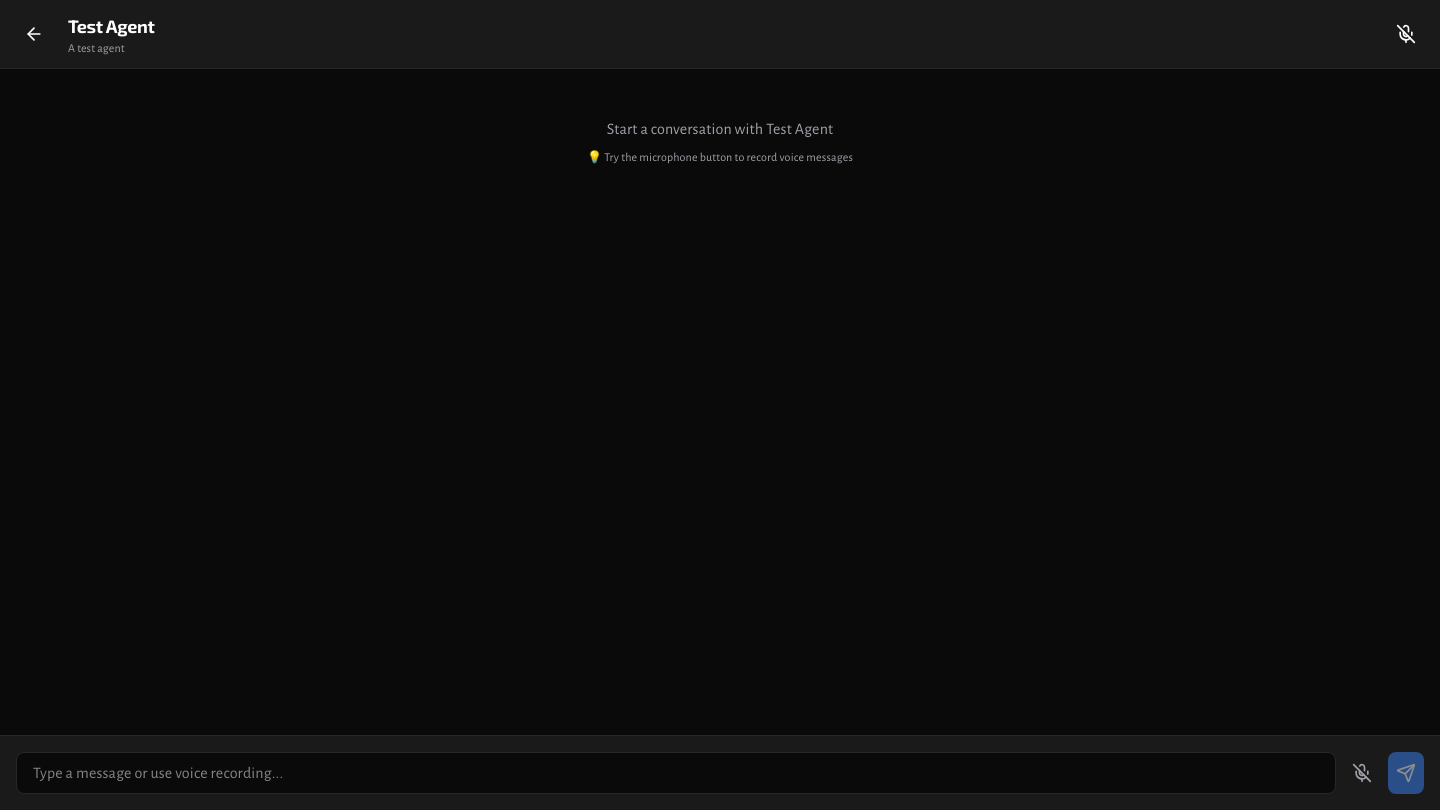
Test: EnhancedChatInterface › formats agent messages with numbered lists
The image size is (1440, 810).
Type "Test message" into the text box with placeholder "Type a message or use voice recording...".
click(676, 773); type("Test message")  # box 16,752 -> 1336,794
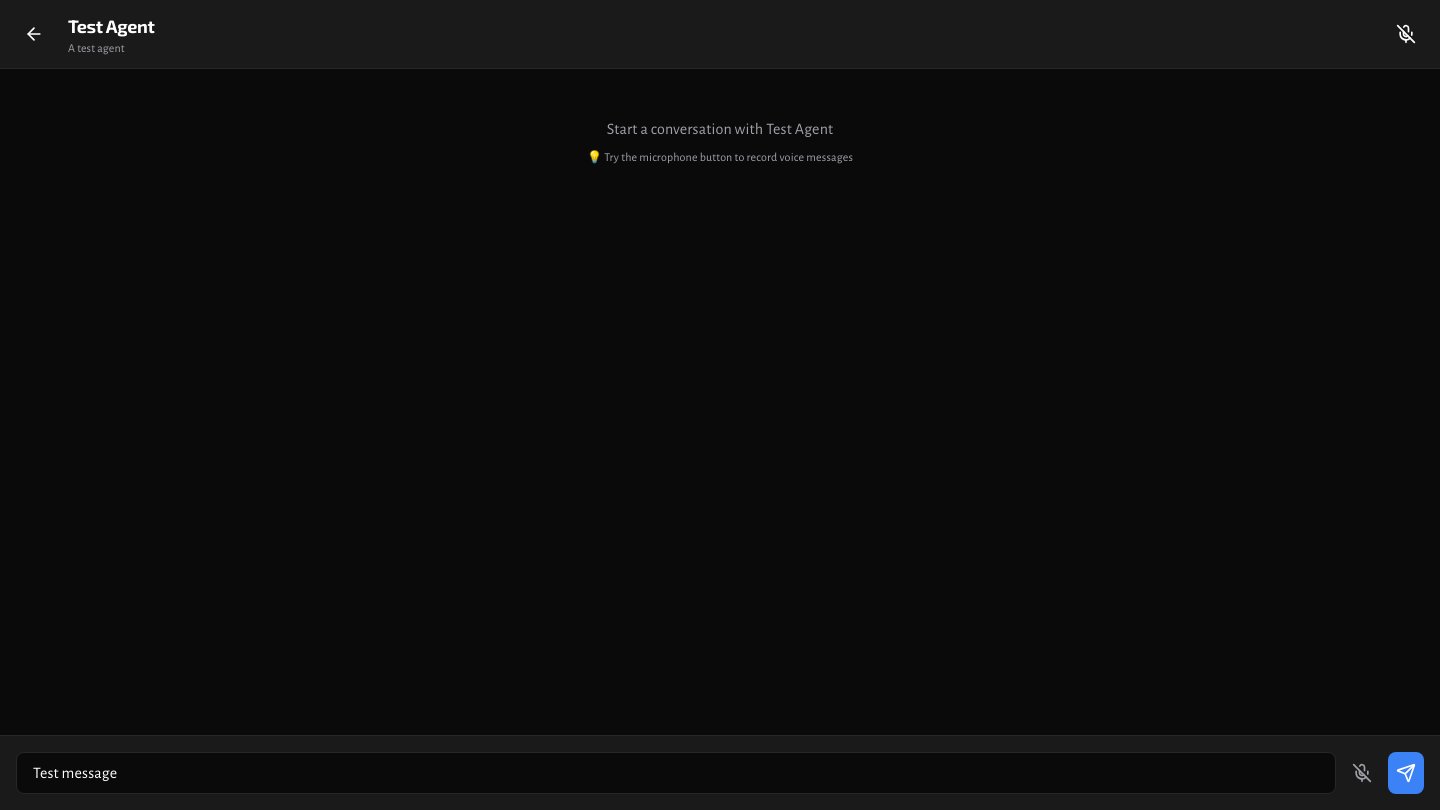
Click the button named "Send message".
click(1406, 773)  # box 1388,752 -> 1424,794
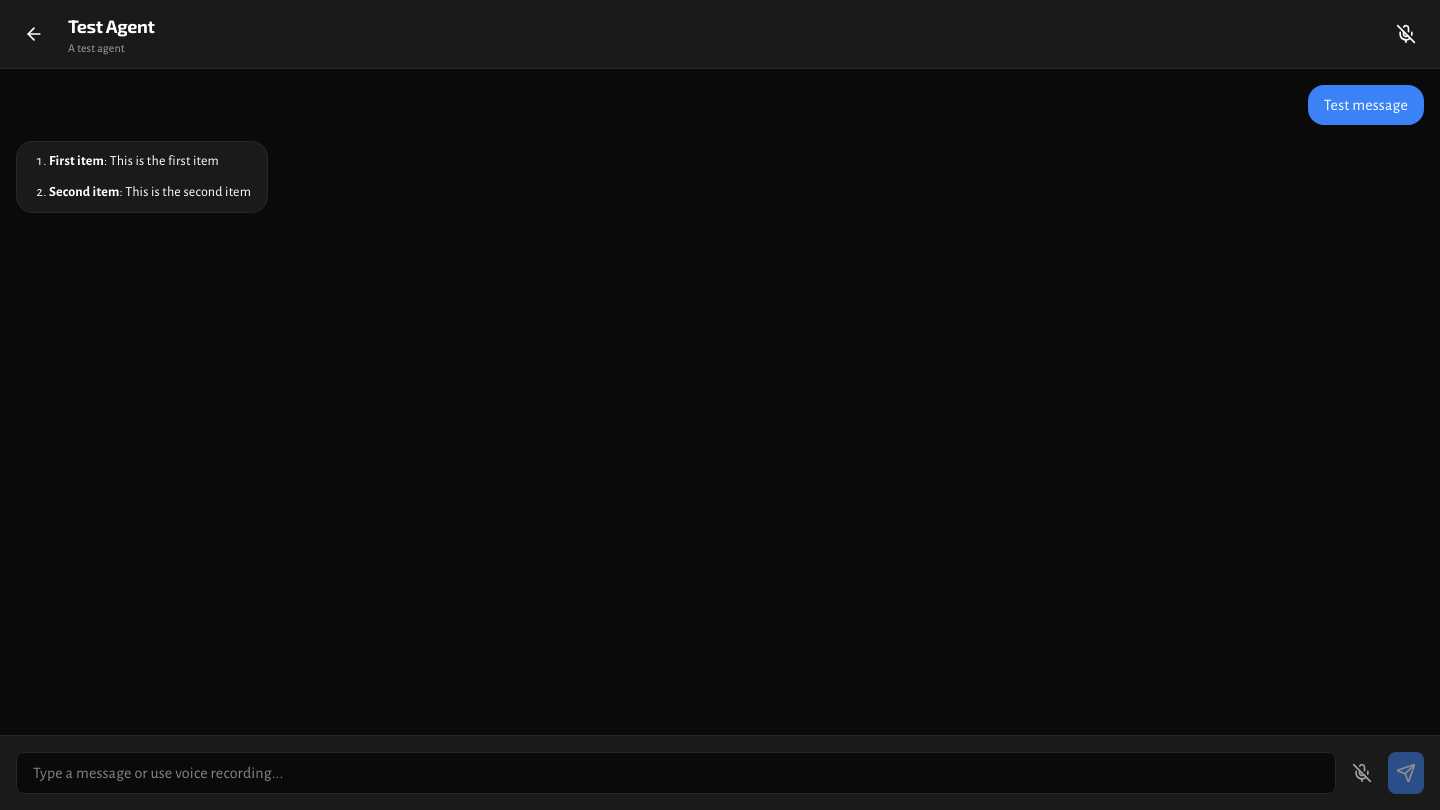
Now the text "First item" is shown, box 49,154 -> 104,168
Now the text "Second item" is shown, box 49,185 -> 119,199
